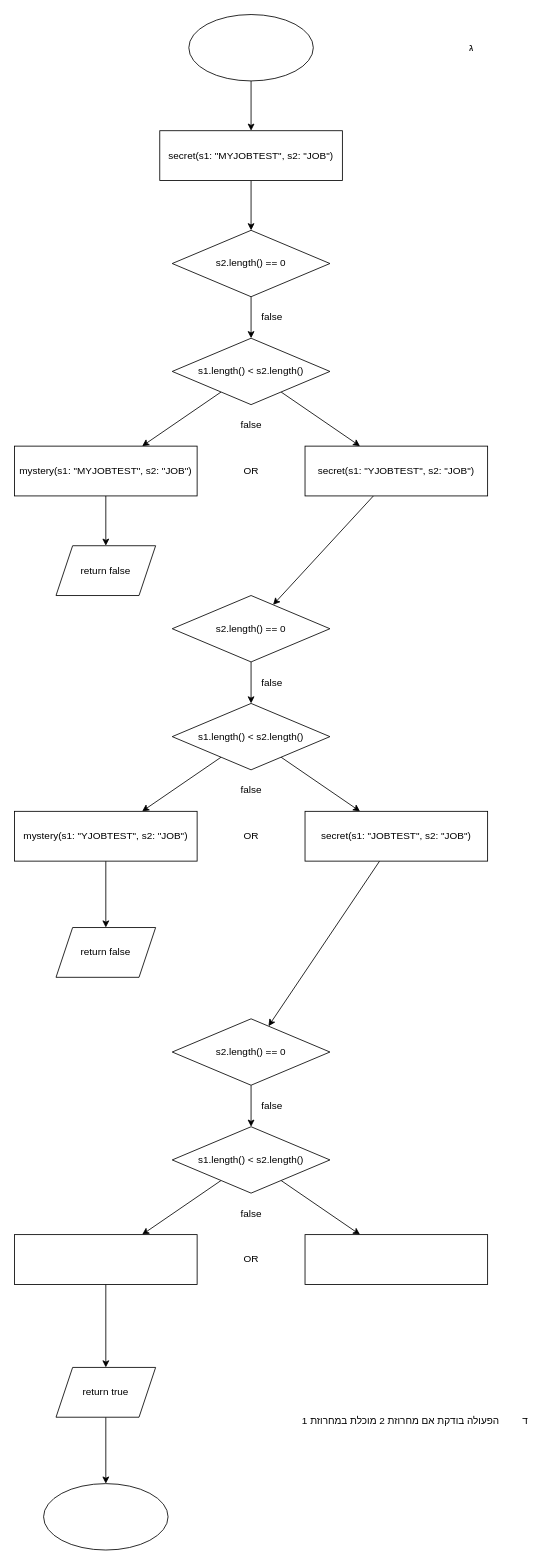
This 552x1565 diagram has some shape labels left out. The shapes that lost their labels are listed below. From the top down, each one's centre as x and y in pixels, then its label:
pixel 250 47: Start
pixel 105 1259: mystery(s1: "JOBTEST", s2: "JOB")
pixel 396 1259: secret(s1: "OBTEST", s2: "JOB")
pixel 105 1516: End
